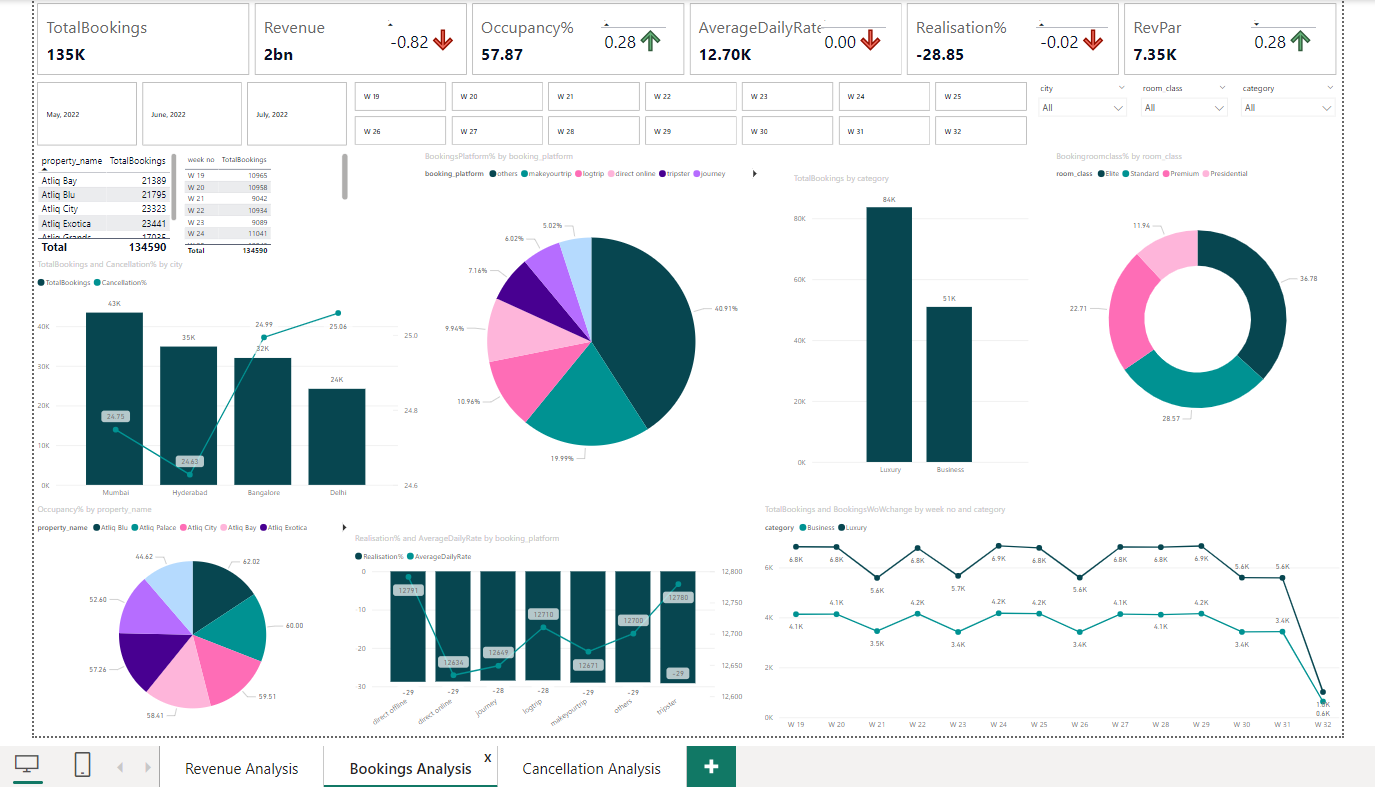

The page's visual inventory and layout, read from the dashboard file:
{"tool":"powerbi","page":{"name":"Bookings Analysis","canvas":[1920,1080],"ordinal":1},"visuals":[{"type":"slicer","fields":{"Values":["Dim_hotel.city"]},"box":[1463.8,115,150,103.8],"z":0},{"type":"slicer","fields":{"Values":["Dim_room.room_class"]},"box":[1613.8,115,147.5,103.8],"z":1000},{"type":"slicer","fields":{"Values":["Dim_hotel.category"]},"box":[1761.2,115,158.8,103.8],"z":2000},{"type":"advancedSlicerVisual","fields":{"Values":["Dim_date.mmm yy"]},"box":[0,115,466.2,103.8],"z":3000},{"type":"advancedSlicerVisual","fields":{"Values":["Dim_date.week no"]},"box":[466.2,115,997.5,103.8],"z":4000},{"type":"cardVisual","fields":{"Data":["_Measure.TotalBookings","_Measure.Revenue","_Measure.Occupancy%","_Measure.AverageDailyRate","_Measure.Realisation%","_Measure.RevPar"]},"box":[0,0,1920,115],"z":5000},{"type":"tableEx","fields":{"Values":["_Measure.RevenueWoWchange"]},"box":[507.5,12.5,123.8,80],"z":6000},{"type":"tableEx","fields":{"Values":["_Measure.OccupanctWoWchange%"]},"box":[825,12.5,125,81.2],"z":7000},{"type":"tableEx","fields":{"Values":["_Measure.RealisationWoWchange%"]},"box":[1463.8,12.5,123.8,80],"z":8000},{"type":"tableEx","fields":{"Values":["_Measure.RevparWoWChange%"]},"box":[1780,12.5,123.8,80],"z":9000},{"type":"tableEx","fields":{"Values":["_Measure.ADRWoWchange%"]},"box":[1147.5,12.5,123.8,80],"z":10000},{"type":"pieChart","fields":{"Category":["Fact_bookings.booking_platform"],"Y":["_Measure.BookingsPlatform%"]},"box":[568.6,220.1,498.9,519.1],"z":11000},{"type":"lineStackedColumnComboChart","fields":{"Category":["Fact_bookings.booking_platform"],"Y":["_Measure.Realisation%"],"Y2":["_Measure.AverageDailyRate"]},"box":[465.9,781.4,579.6,299],"z":12000},{"type":"lineChart","fields":{"Series":["Dim_hotel.category"],"Category":["Dim_date.week no"],"Y":["_Measure.TotalBookings"]},"box":[1067.5,739.2,852.9,341.2],"z":13000},{"type":"columnChart","fields":{"Category":["Dim_hotel.category"],"Y":["_Measure.TotalBookings"]},"box":[1109.6,252.8,354.6,453],"z":14000},{"type":"donutChart","fields":{"Category":["Dim_room.room_class"],"Y":["_Measure.Bookingroomclass%"]},"box":[1494.9,220.1,425.5,453.1],"z":15000},{"type":"lineStackedColumnComboChart","fields":{"Category":["Dim_hotel.city"],"Y":["_Measure.TotalBookings"],"Y2":["_Measure.Cancellation%"]},"box":[0,379.7,568.6,359.5],"z":16000},{"type":"tableEx","fields":{"Values":["Dim_hotel.property_name","_Measure.TotalBookings"]},"box":[0,220.1,214.6,159.6],"z":17000},{"type":"pieChart","fields":{"Category":["Dim_hotel.property_name"],"Y":["_Measure.Occupancy%"]},"box":[0,739.2,465.9,341.2],"z":18000},{"type":"tableEx","fields":{"Values":["Dim_date.week no","_Measure.TotalBookings"]},"box":[215,220,251,160],"z":19000}]}

Visuals, with their boxes on the page's 1920x1080 design canvas (x1, y1, x2, y2). These are canvas units, not pixel positions in the 1375x787 screenshot, which may show the page scaled, cropped or inside an application window:
slicer - Dim_hotel.city: detection(1464, 115, 1614, 219)
slicer - Dim_room.room_class: detection(1614, 115, 1761, 219)
slicer - Dim_hotel.category: detection(1761, 115, 1920, 219)
advancedSlicerVisual - Dim_date.mmm yy: detection(0, 115, 466, 219)
advancedSlicerVisual - Dim_date.week no: detection(466, 115, 1464, 219)
cardVisual - _Measure.TotalBookings x _Measure.Revenue: detection(0, 0, 1920, 115)
tableEx - _Measure.RevenueWoWchange: detection(508, 12, 631, 92)
tableEx - _Measure.OccupanctWoWchange%: detection(825, 12, 950, 94)
tableEx - _Measure.RealisationWoWchange%: detection(1464, 12, 1588, 92)
tableEx - _Measure.RevparWoWChange%: detection(1780, 12, 1904, 92)
tableEx - _Measure.ADRWoWchange%: detection(1148, 12, 1271, 92)
pieChart - Fact_bookings.booking_platform x _Measure.BookingsPlatform%: detection(569, 220, 1068, 739)
lineStackedColumnComboChart - Fact_bookings.booking_platform x _Measure.Realisation%: detection(466, 781, 1046, 1080)
lineChart - Dim_hotel.category x Dim_date.week no: detection(1068, 739, 1920, 1080)
columnChart - Dim_hotel.category x _Measure.TotalBookings: detection(1110, 253, 1464, 706)
donutChart - Dim_room.room_class x _Measure.Bookingroomclass%: detection(1495, 220, 1920, 673)
lineStackedColumnComboChart - Dim_hotel.city x _Measure.TotalBookings: detection(0, 380, 569, 739)
tableEx - Dim_hotel.property_name x _Measure.TotalBookings: detection(0, 220, 215, 380)
pieChart - Dim_hotel.property_name x _Measure.Occupancy%: detection(0, 739, 466, 1080)
tableEx - Dim_date.week no x _Measure.TotalBookings: detection(215, 220, 466, 380)
